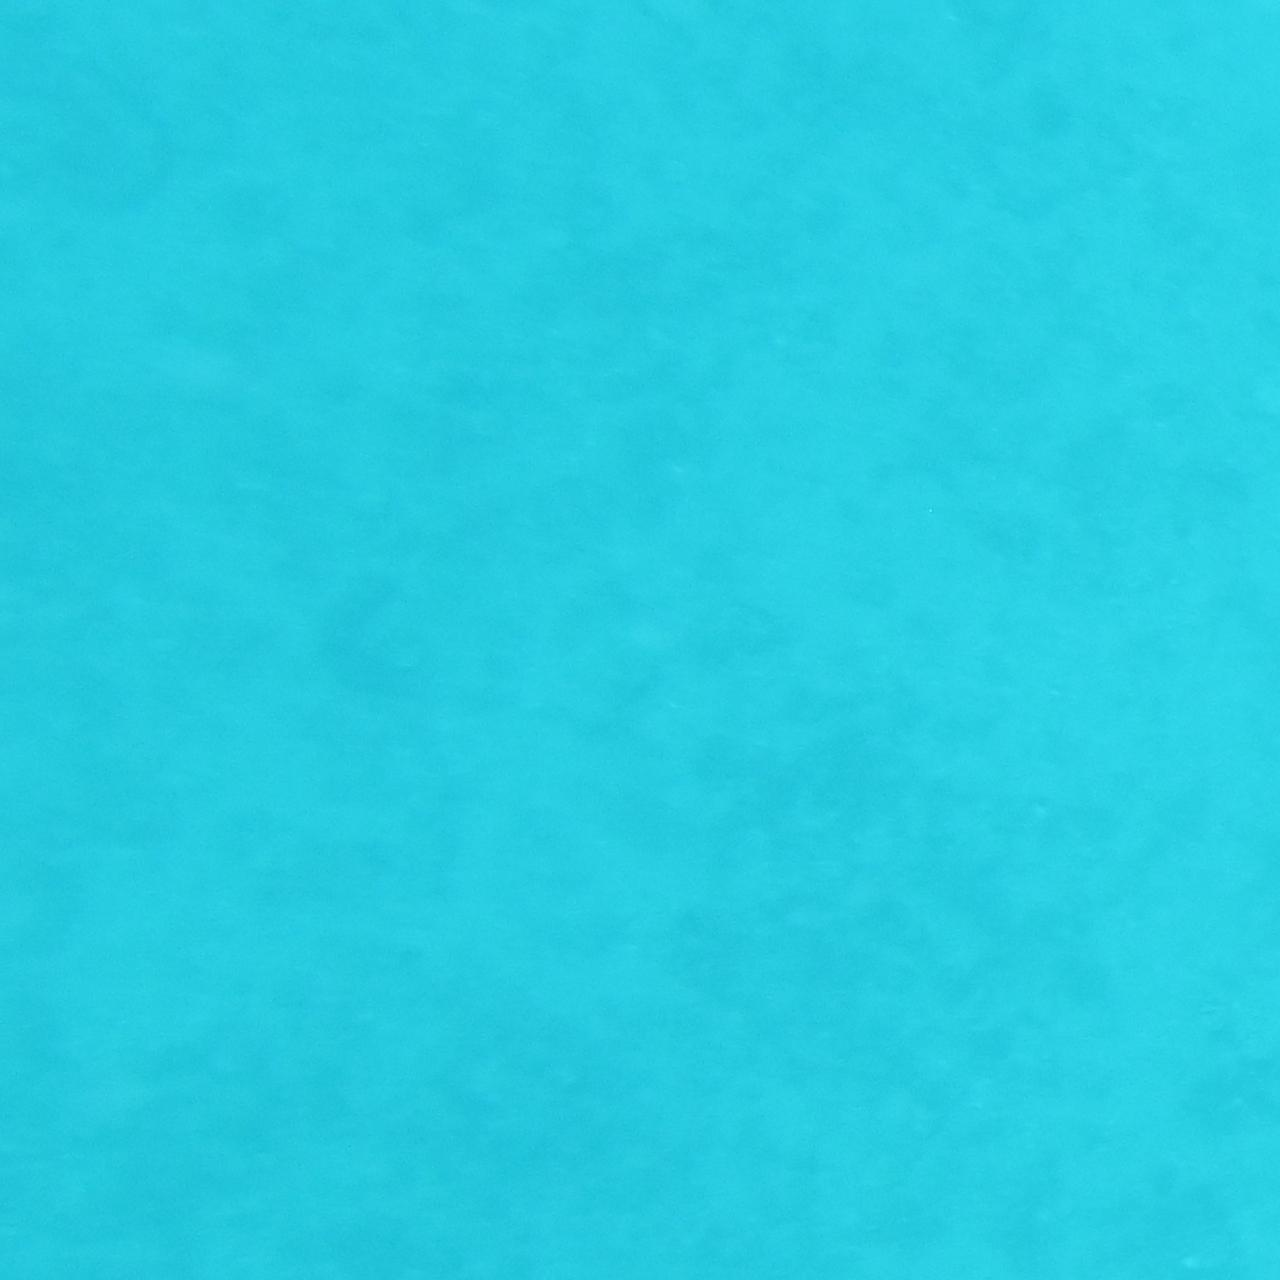Holothuria tubulosa: (304, 570, 422, 710)
